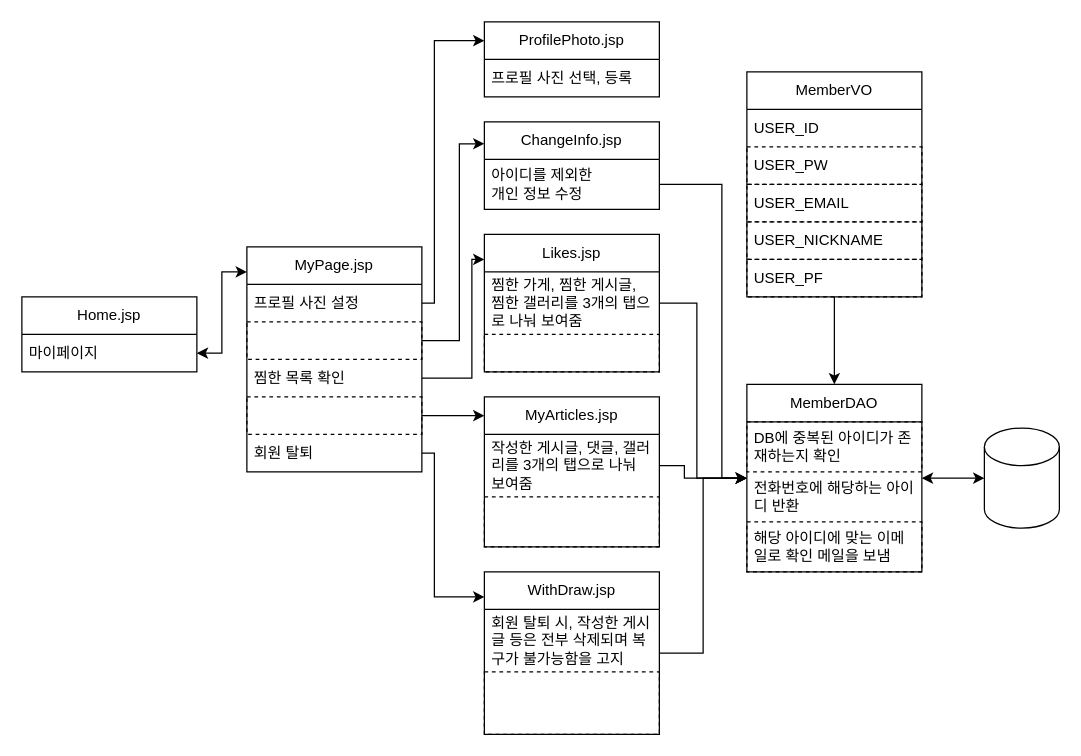
This 1081x756 diagram has some shape labels left out. Each missing label, with the centre of its shape:
Member DB: the point at 1021,477
내 정보 확인 및 수정: the point at 334,340
삭제하거나 해당 글의 링크로 이동할 수 있음: the point at 571,521
아이디와 비밀번호를 한번 더 입력 받아 회원 탈퇴 진행: the point at 571,702
작성한 글 관리: the point at 334,415
찜한것을 해제하거나 해당 페이지로 이동: the point at 571,352
